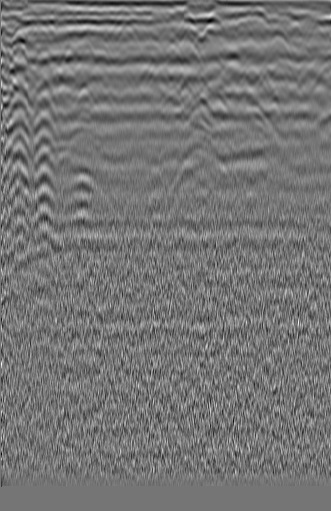상수: (295, 62, 327, 86)
오수: (4, 39, 35, 67)
우수: (134, 59, 170, 90)
